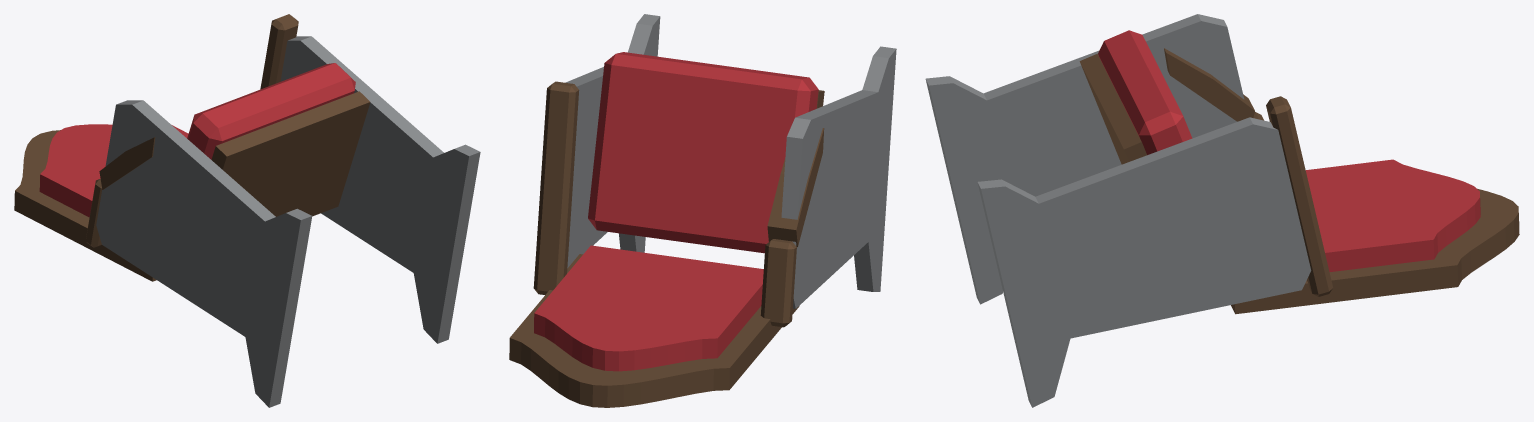
Rendered from seat_broken_b.glb.
3 renders of one model, left to right at view 1: azimuth 30°, elevation 25°; view 2: azimuth 150°, elevation 25°; view 3: azimuth 270°, elevation 25°, orthographic. The views are drawn at different scales.
Parts seen in each view (by area): view 1: steel__seat_broken_b__solid, dark_wood__seat_broken_b__solid, velvet__seat_broken_b__solid; view 2: velvet__seat_broken_b__solid, steel__seat_broken_b__solid, dark_wood__seat_broken_b__solid; view 3: steel__seat_broken_b__solid, velvet__seat_broken_b__solid, dark_wood__seat_broken_b__solid.
Part boxes in pixels (x1,y1,x2,y2): steel__seat_broken_b__solid: [96, 36, 480, 407]; dark_wood__seat_broken_b__solid: [14, 14, 370, 281]; velvet__seat_broken_b__solid: [39, 63, 355, 217]; velvet__seat_broken_b__solid: [534, 52, 818, 371]; steel__seat_broken_b__solid: [565, 14, 896, 308]; dark_wood__seat_broken_b__solid: [509, 81, 824, 407]; steel__seat_broken_b__solid: [925, 14, 1311, 407]; velvet__seat_broken_b__solid: [1098, 30, 1480, 271]; dark_wood__seat_broken_b__solid: [1079, 48, 1519, 314].
Size of the model in its own units: 0.7144 by 0.6348 by 1.22.
